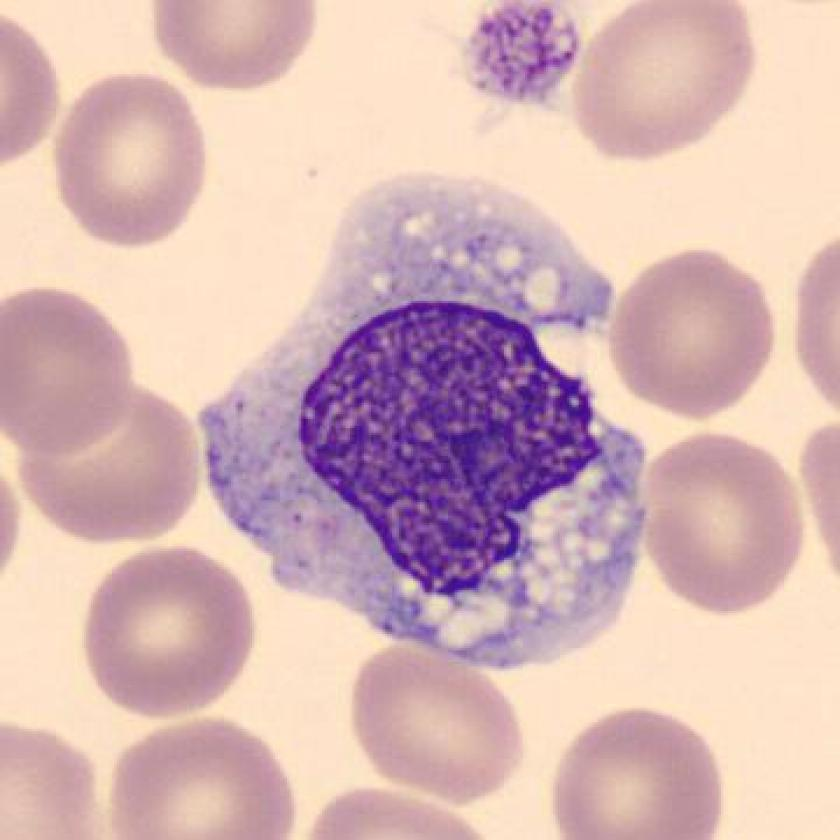monocyte: (183, 147, 680, 704)
